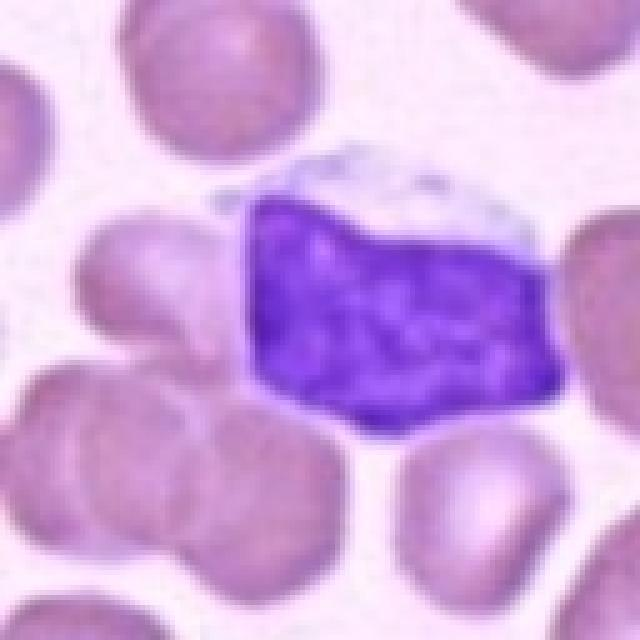lympho: (206, 138, 577, 459)
